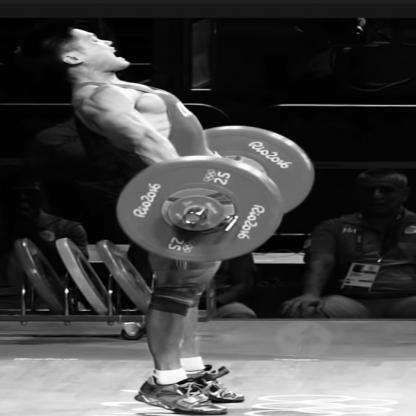Barbell: (182, 211, 204, 228)
